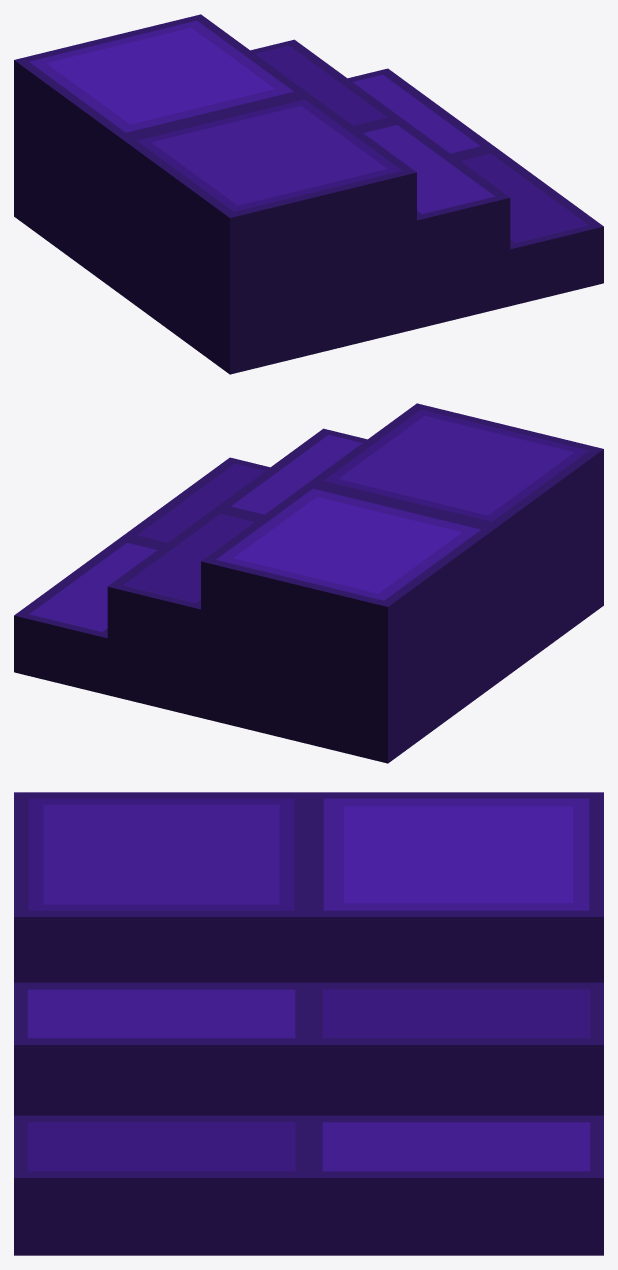
The model's file is stairs_01.fbx.
The picture shows the model from 3 angles, top to bottom: view 1: azimuth 30°, elevation 25°; view 2: azimuth 150°, elevation 25°; view 3: azimuth 270°, elevation 25°; orthographic projection. The views are drawn at different scales.
Parts seen in each view (by area): view 1: stairs_01; view 2: stairs_01; view 3: stairs_01.
Part boxes in pixels (x1=…): stairs_01: x1=14, y1=14, x2=603, y2=374; stairs_01: x1=14, y1=403, x2=603, y2=763; stairs_01: x1=14, y1=792, x2=603, y2=1255.
Bounding box in the file's own units: 100 × 40 × 100.
Materials: 1 (1 with a texture image).
